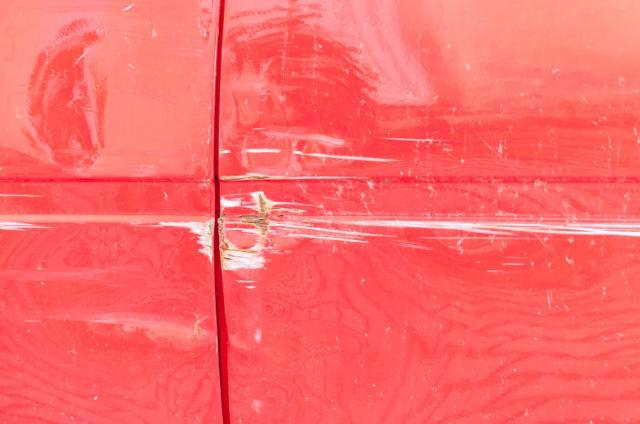Door: (0, 4, 640, 424)
